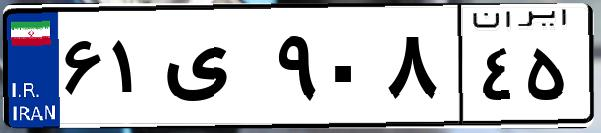0: (330, 28, 385, 110)
1: (110, 28, 158, 98)
4: (475, 38, 525, 113)
5: (525, 38, 570, 115)
6: (57, 26, 110, 100)
8: (385, 28, 445, 110)
9: (270, 28, 330, 110)
ی: (158, 20, 270, 120)
